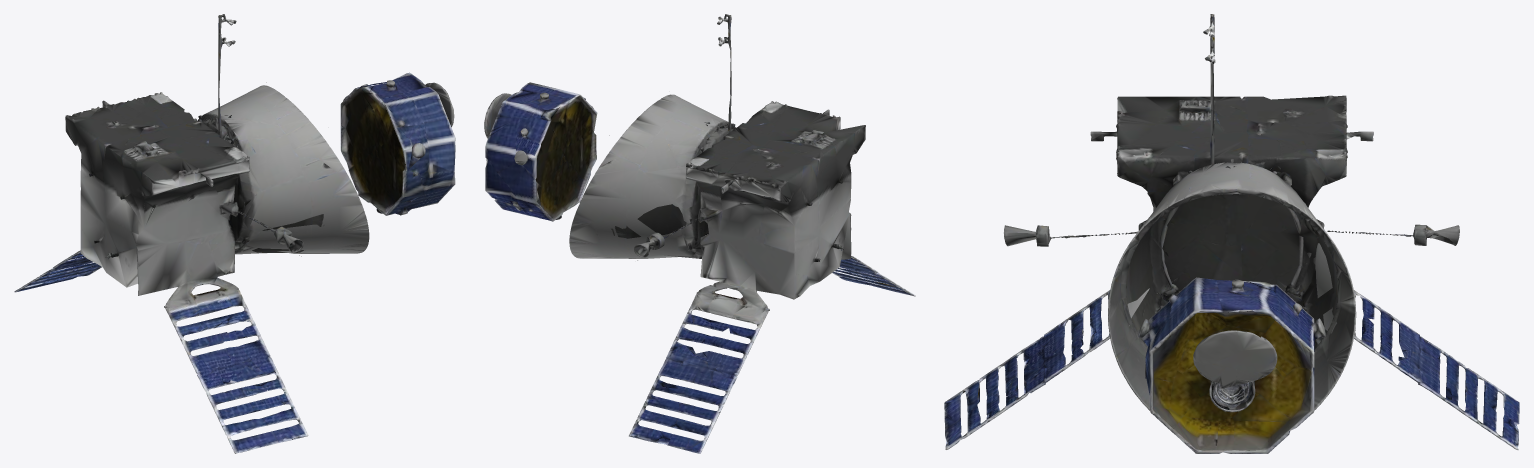
Rendered from bepicolombo-low.glb.
3 renders of one model, left to right at view 1: azimuth 30°, elevation 25°; view 2: azimuth 150°, elevation 25°; view 3: azimuth 270°, elevation 25°, orthographic. The views are drawn at different scales.
Bounding box in the file's own units: 1.71 × 1.61 × 1.89.
1 material, 1 textured.
